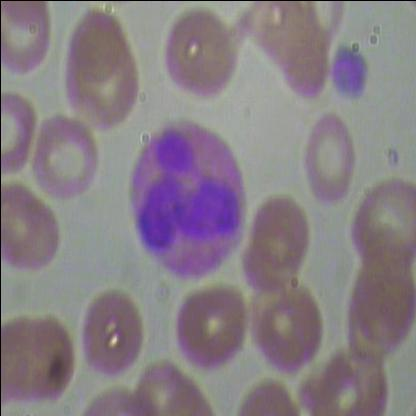Platelets: (324, 45, 374, 100)
RBC: (156, 9, 245, 109), (248, 276, 326, 378), (170, 280, 254, 374), (343, 172, 415, 274), (27, 112, 99, 208), (74, 288, 145, 380), (1, 174, 64, 276), (299, 109, 363, 208)
WBC: (120, 116, 248, 288)
